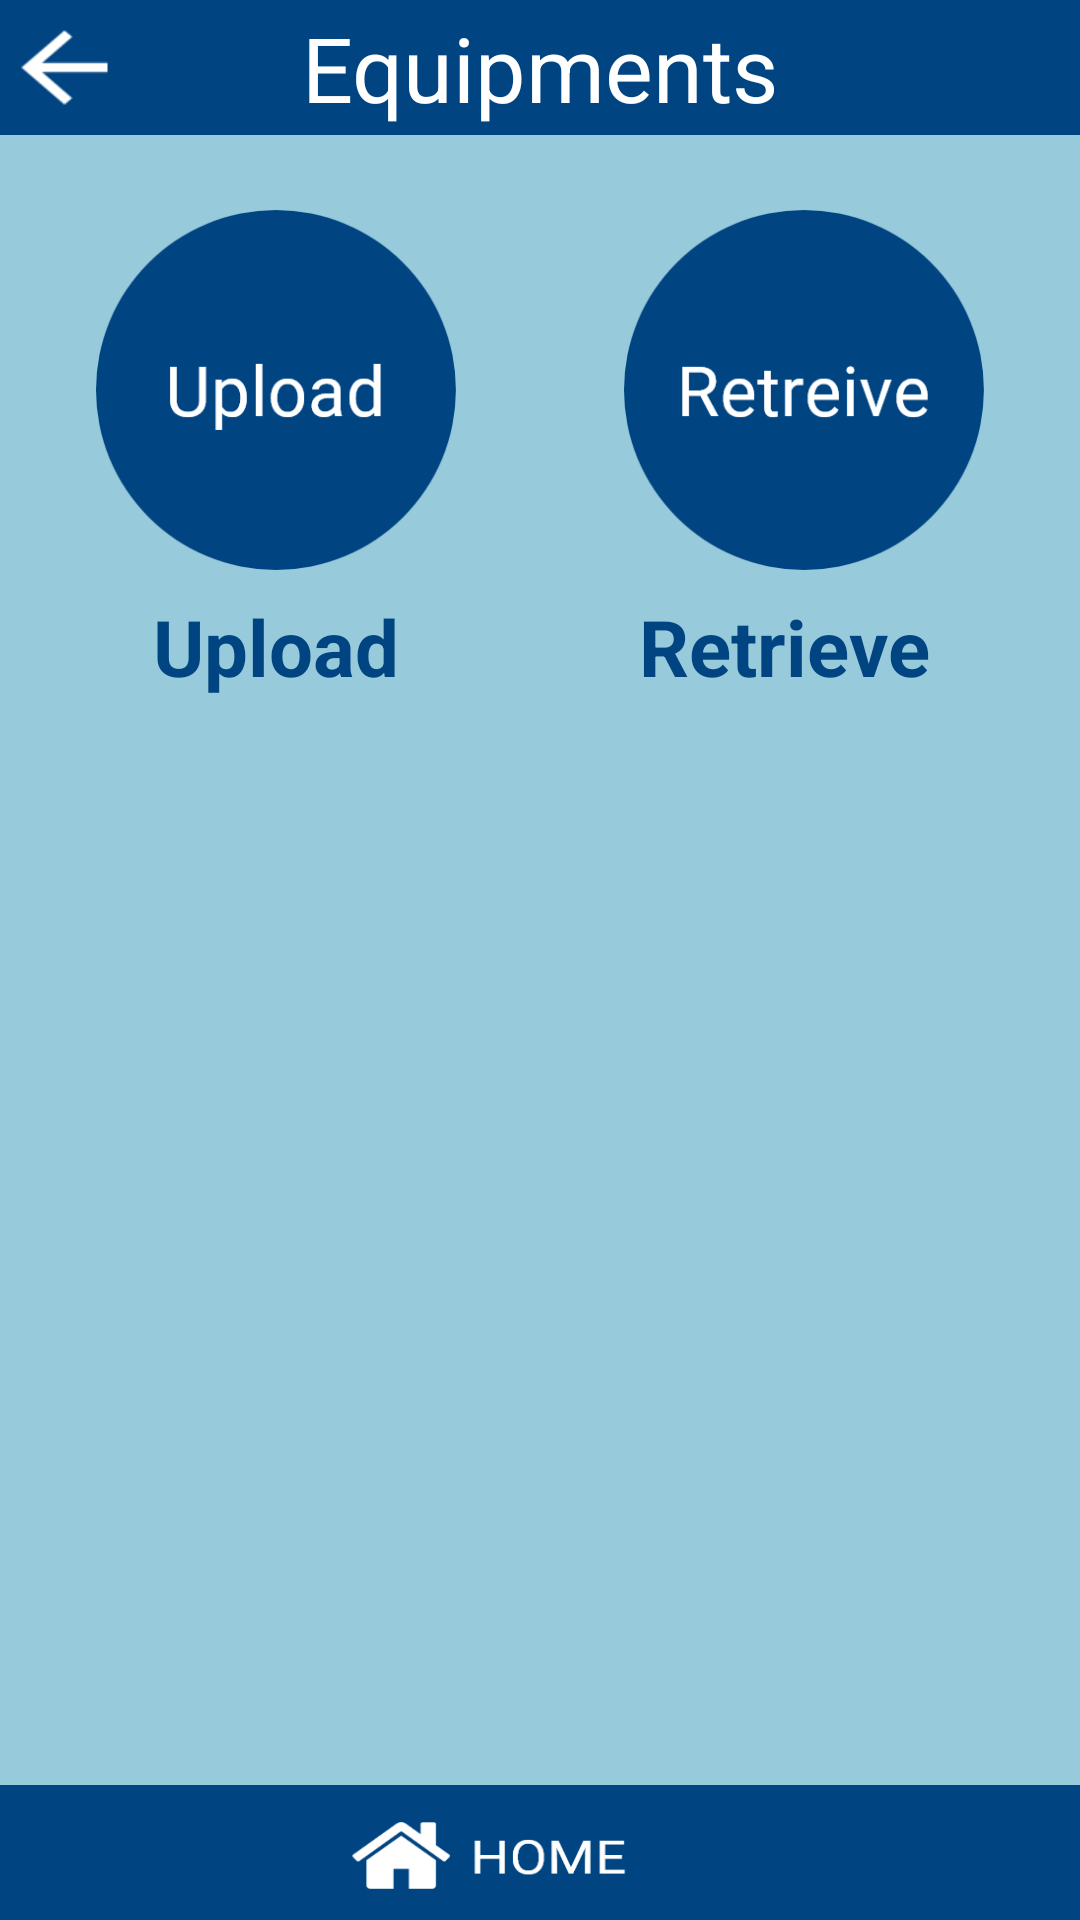

Screen size 1080×1920. Icon name, then its center in pixels as (x=x, y=y):
back: (x=64, y=67)
